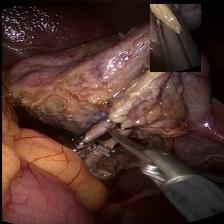Grasper: (149, 4, 200, 72)
Scissors: (104, 125, 196, 192)
